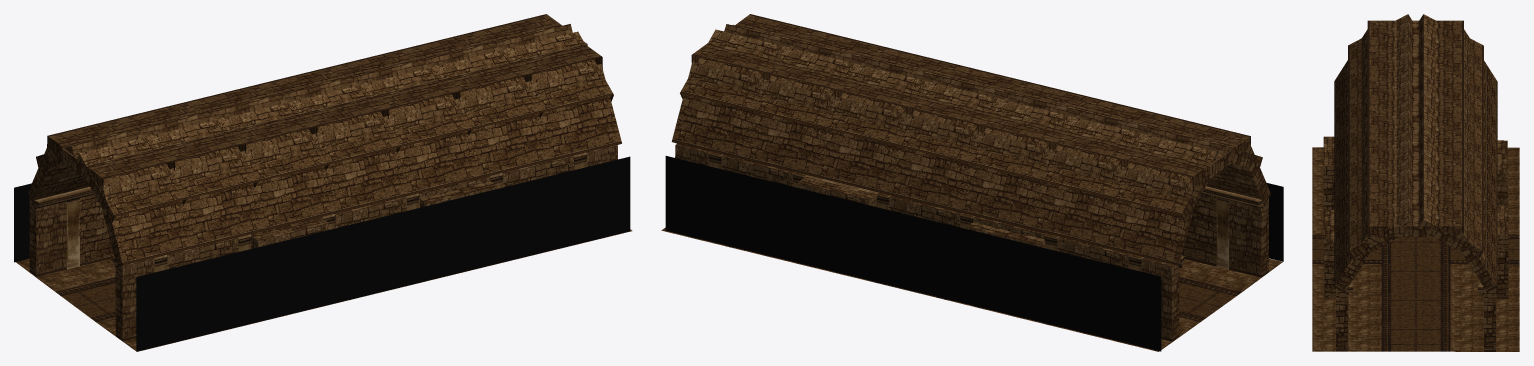
The model's file is TunnelTemplate1.fbx.
The picture shows the model from 3 angles, left to right: view 1: azimuth 30°, elevation 25°; view 2: azimuth 150°, elevation 25°; view 3: azimuth 270°, elevation 25°; orthographic projection. The views are drawn at different scales.
Parts seen in each view (by area): view 1: Plane.022, Plane.057, Plane.055, Plane.060, Plane.059, Plane.058, Plane.056, Plane.035, Plane.061, Floor, Plane.051, Plane.066 (+16 smaller); view 2: Plane.068, Plane.061, Plane.067, Plane.064, Plane.062, Plane.063, Plane.066, Plane.065, Floor, Plane.057, Plane.045, Plane.030 (+17 smaller); view 3: Floor, Plane.064, Plane.060, Plane.067, Plane.061, Plane.066, Plane.063, Plane.062, Plane.065, Plane.055, Plane.059, Plane.058 (+9 smaller).
Part boxes in pixels (left/top/right/bottom): Plane.022: left=136, top=156, right=630, bottom=351; Plane.057: left=62, top=136, right=193, bottom=267; Plane.055: left=221, top=101, right=336, bottom=231; Plane.060: left=507, top=31, right=621, bottom=160; Plane.059: left=436, top=49, right=550, bottom=178; Plane.058: left=364, top=66, right=479, bottom=195; Plane.056: left=150, top=118, right=264, bottom=247; Plane.035: left=293, top=84, right=407, bottom=212; Plane.061: left=28, top=118, right=159, bottom=204; Floor: left=16, top=229, right=632, bottom=351; Plane.051: left=29, top=198, right=66, bottom=276; Plane.066: left=333, top=48, right=445, bottom=96; Plane.068: left=665, top=156, right=1161, bottom=351; Plane.061: left=1101, top=129, right=1233, bottom=265; Plane.067: left=886, top=77, right=1018, bottom=211; Plane.064: left=671, top=24, right=803, bottom=159; Plane.062: left=1029, top=112, right=1161, bottom=247; Plane.063: left=958, top=94, right=1089, bottom=229; Plane.066: left=814, top=59, right=946, bottom=194; Plane.065: left=743, top=42, right=875, bottom=176; Floor: left=661, top=227, right=1282, bottom=351; Plane.057: left=1153, top=119, right=1270, bottom=204; Plane.045: left=1229, top=198, right=1268, bottom=277; Plane.030: left=1182, top=193, right=1216, bottom=266; Floor: left=1312, top=147, right=1519, bottom=351; Plane.064: left=1394, top=190, right=1497, bottom=292; Plane.060: left=1334, top=190, right=1432, bottom=292; Plane.067: left=1394, top=102, right=1497, bottom=198; Plane.061: left=1394, top=14, right=1497, bottom=110; Plane.066: left=1394, top=132, right=1497, bottom=228; Plane.063: left=1394, top=73, right=1497, bottom=169; Plane.062: left=1394, top=43, right=1497, bottom=139; Plane.065: left=1394, top=161, right=1497, bottom=257; Plane.055: left=1334, top=73, right=1411, bottom=168; Plane.059: left=1334, top=161, right=1411, bottom=256; Plane.058: left=1334, top=132, right=1411, bottom=227.
Bounding box in the file's own units: 17519 × 5424 × 7446.
